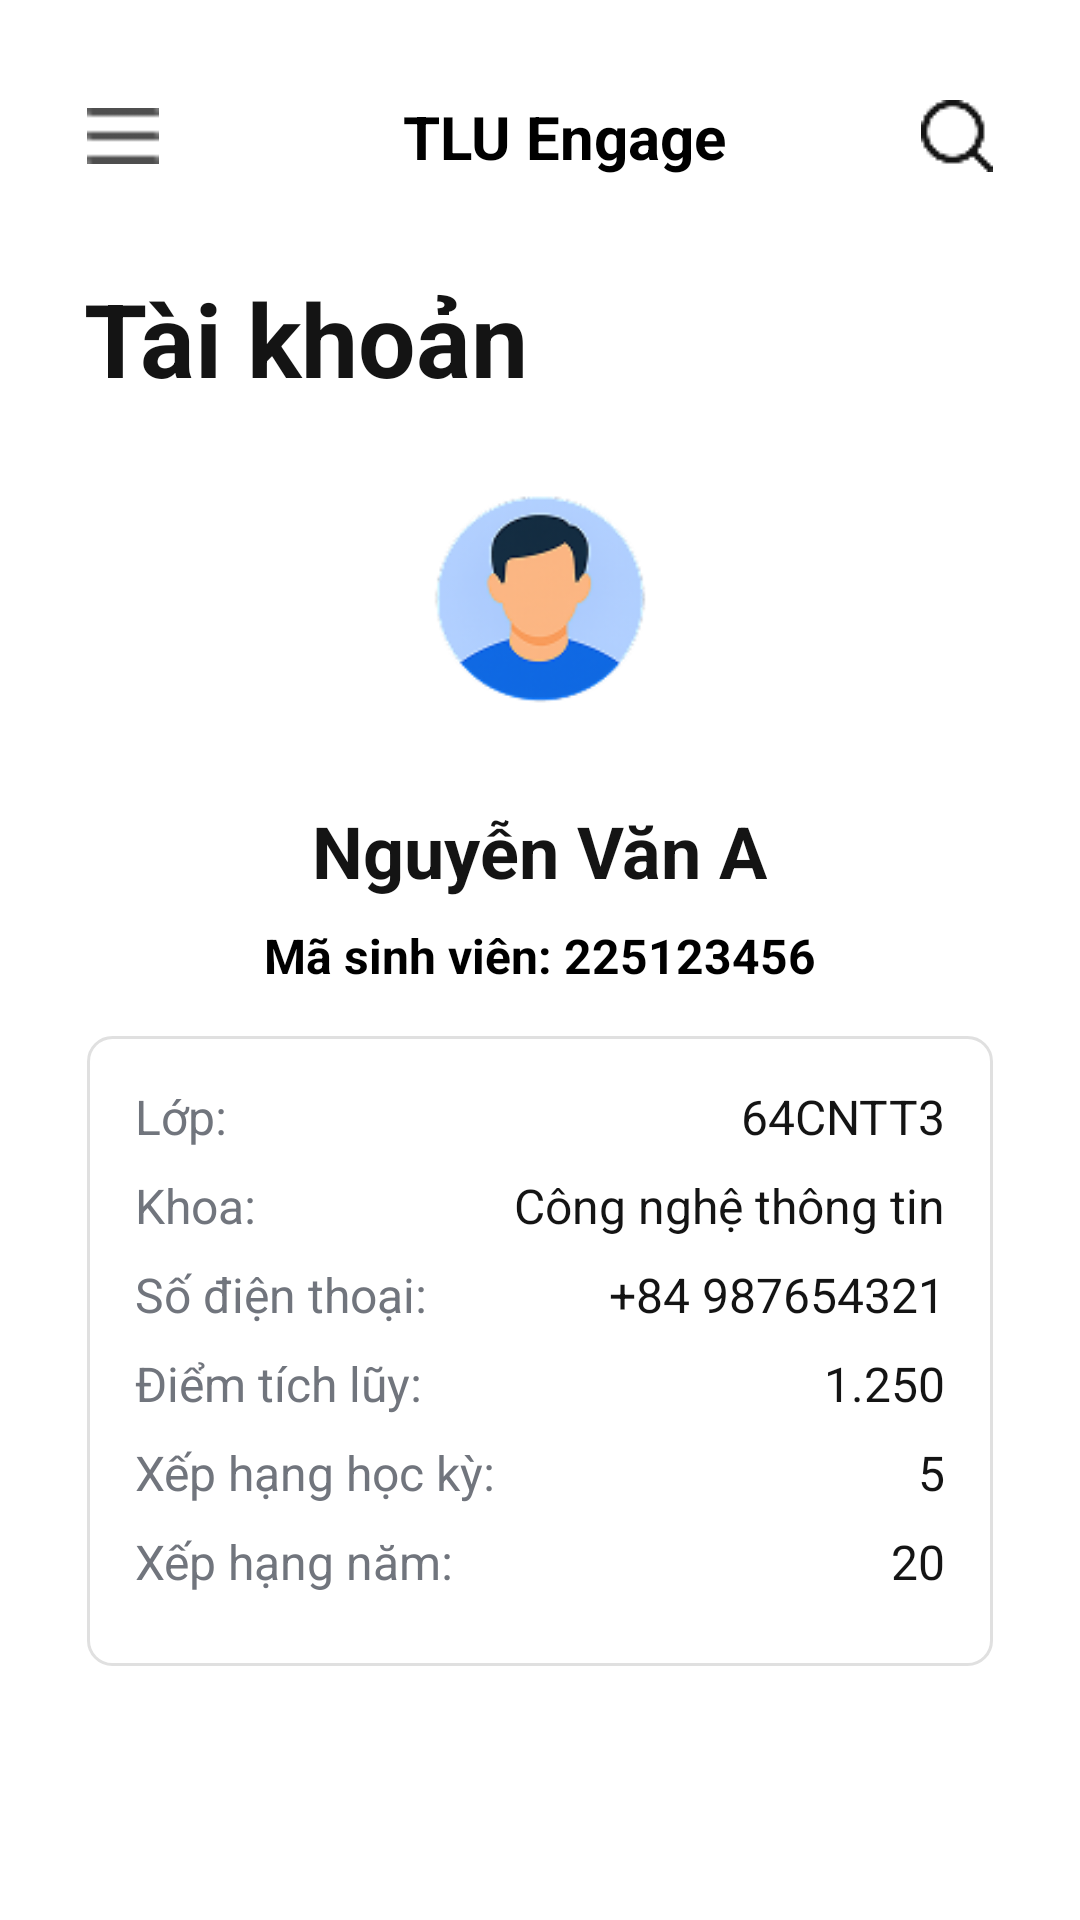

Screen size 1080 × 1920. Icon name, then its center in pixels as point (x, y):
menu: point (123, 136)
profile: point (540, 599)
search: point (957, 136)
